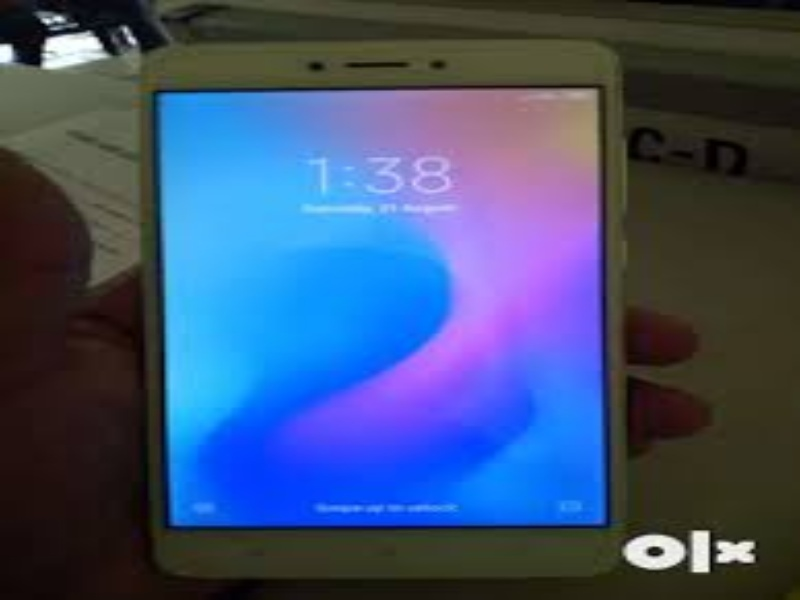mobile: (123, 37, 644, 590)
